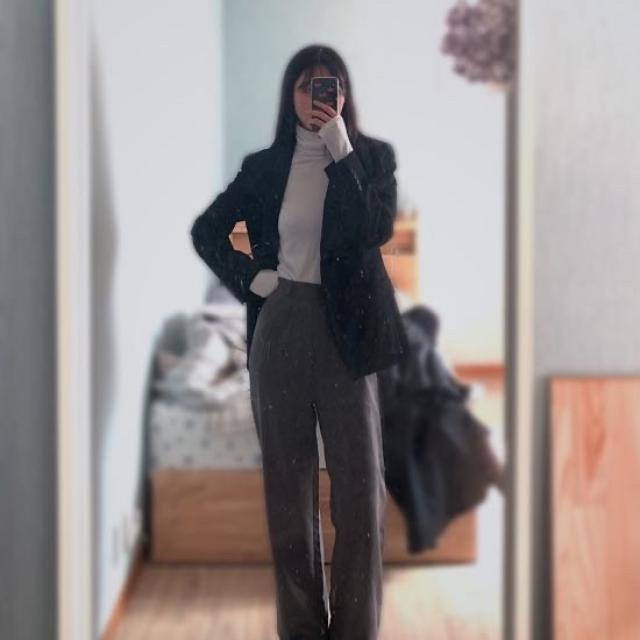blazer: (190, 135, 409, 378)
slacks: (248, 274, 386, 640)
